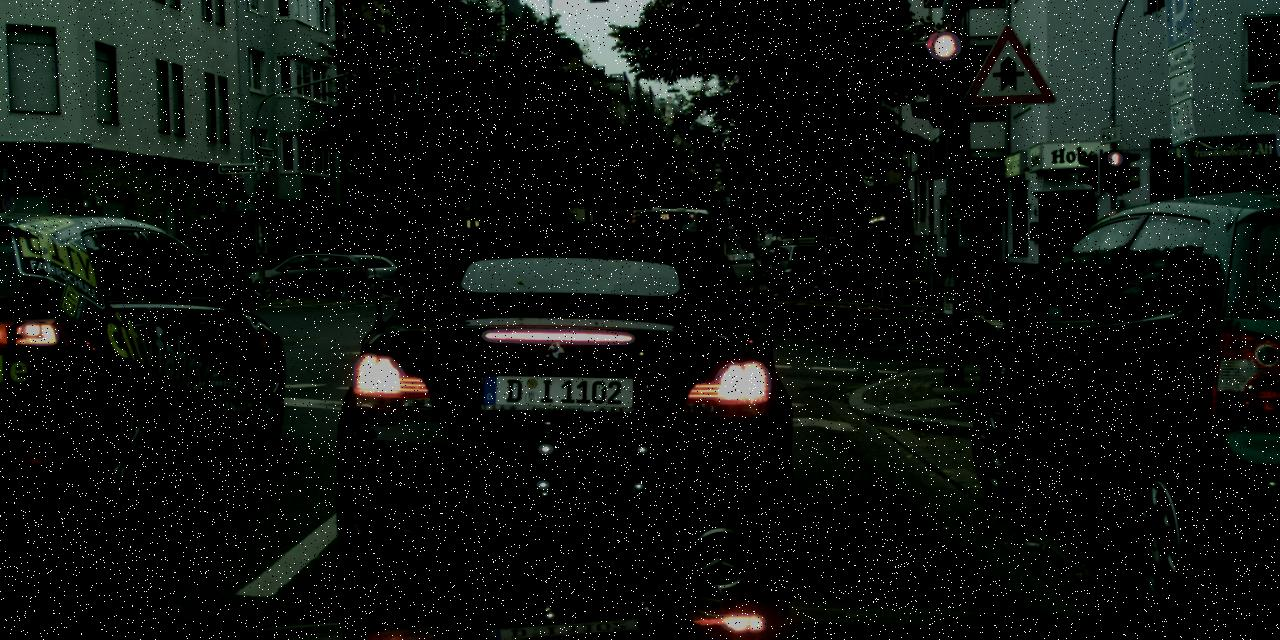ped: (293, 246, 309, 286), (360, 248, 374, 286)
